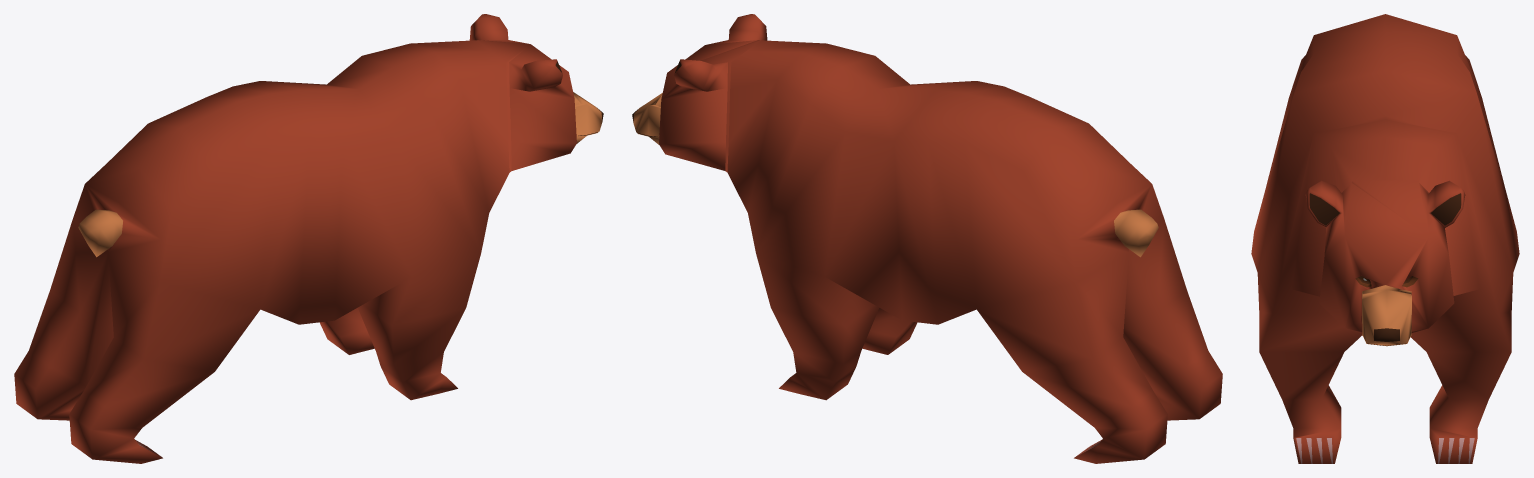
File: Bear.fbx
3 renders of one model, left to right at view 1: azimuth 30°, elevation 25°; view 2: azimuth 150°, elevation 25°; view 3: azimuth 270°, elevation 25°, orthographic. The views are drawn at different scales.
Parts seen in each view (by area): view 1: Bear; view 2: Bear; view 3: Bear.
Boxes of the visible parts, bbox=[...] form: Bear: bbox=[14, 14, 603, 463]; Bear: bbox=[632, 14, 1222, 463]; Bear: bbox=[1251, 14, 1519, 463].
Bounding box in the file's own units: 217 × 114 × 82.78.
